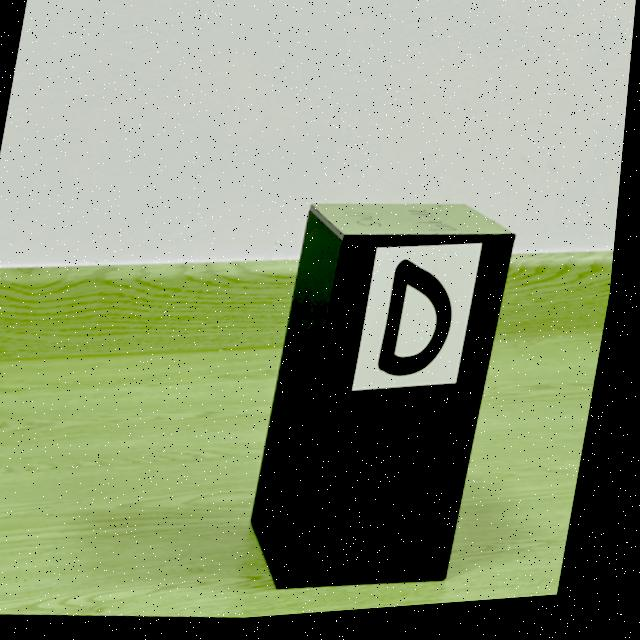D: (385, 266, 458, 382)
